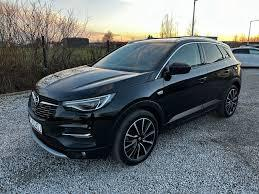opel: (32, 91, 43, 114)
